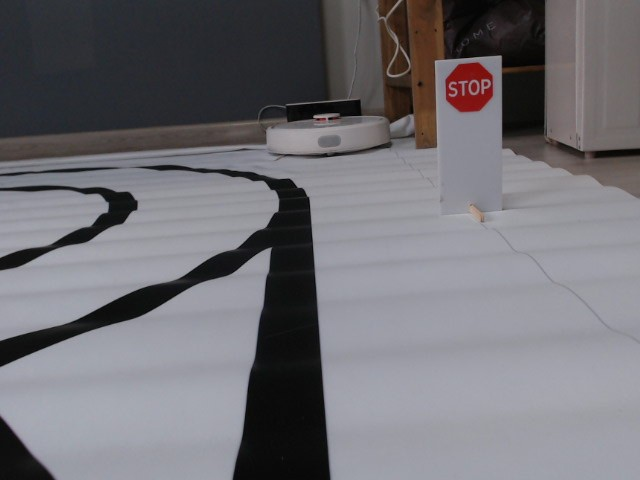Stop: (443, 61, 494, 114)
